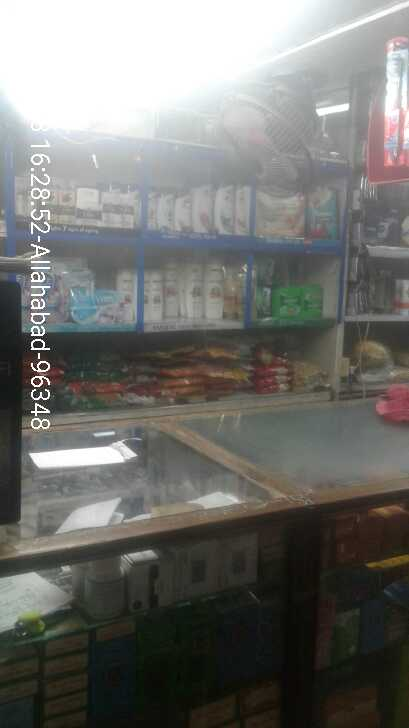venus: (67, 290, 101, 327), (101, 292, 135, 327)
